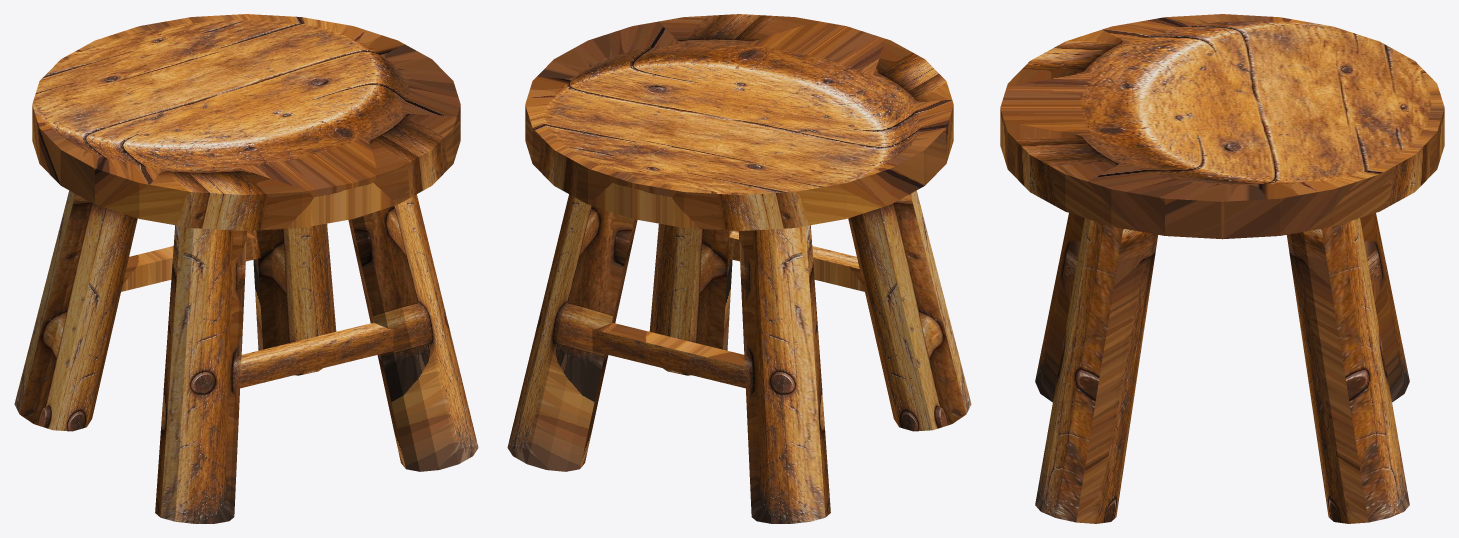
The model's file is v3-tavern-stool.glb.
The picture shows the model from 3 angles, left to right: view 1: azimuth 30°, elevation 25°; view 2: azimuth 150°, elevation 25°; view 3: azimuth 270°, elevation 25°; orthographic projection. The views are drawn at different scales.
Visible parts, largest first — view 1: v3-tavern-stool; view 2: v3-tavern-stool; view 3: v3-tavern-stool.
Part boxes in pixels (x1=…): v3-tavern-stool: x1=14, y1=14, x2=478, y2=523; v3-tavern-stool: x1=507, y1=14, x2=971, y2=523; v3-tavern-stool: x1=1000, y1=14, x2=1444, y2=523.
Bounding box in the file's own units: 0.54 × 0.4676 × 0.54.
1 material, 1 textured.
